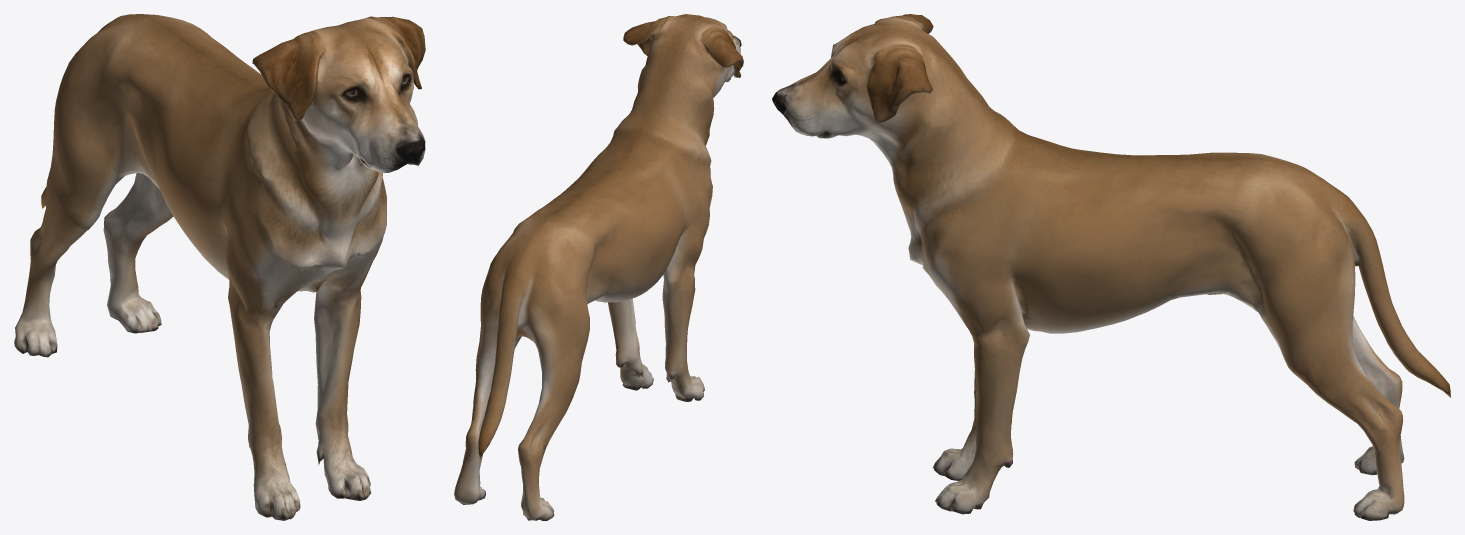
File: cao-3.glb
The picture shows the model from 3 angles, left to right: view 1: azimuth 30°, elevation 25°; view 2: azimuth 150°, elevation 25°; view 3: azimuth 270°, elevation 25°; orthographic projection. The views are drawn at different scales.
Parts seen in each view (by area): view 1: cao; view 2: cao; view 3: cao.
Part boxes in pixels (<box>): cao: <box>14,14,425,520</box>; cao: <box>454,14,743,520</box>; cao: <box>772,14,1450,520</box>.
Bounding box in the file's own units: 0.4835 × 1.42 × 1.9.
Materials: 1 (1 with a texture image).
